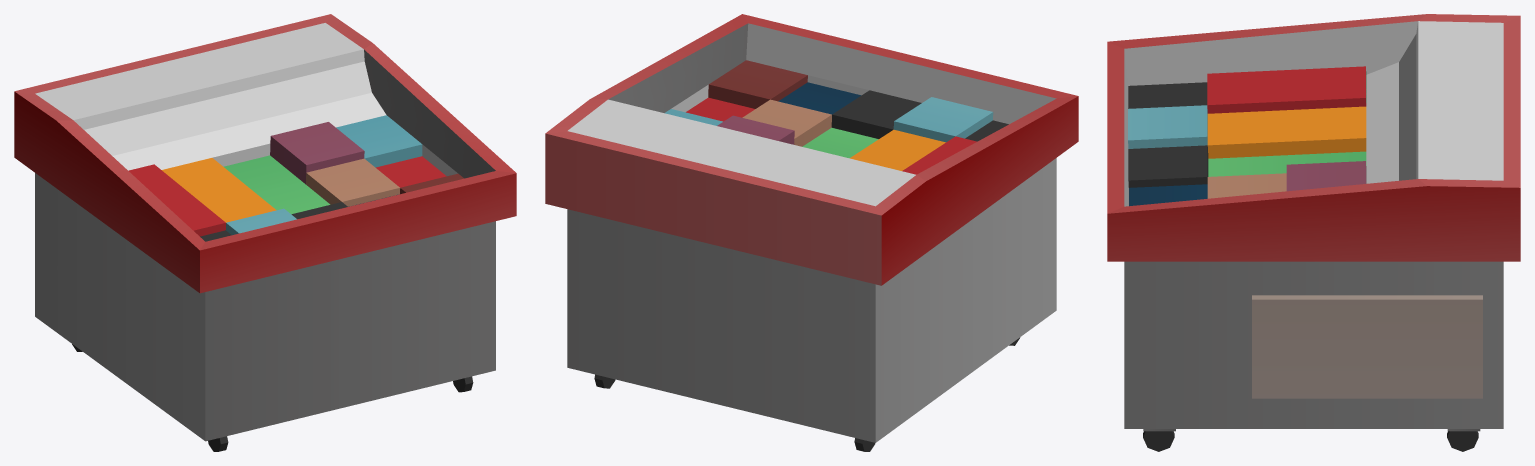
File: B02_Congel.fbx
3 views of the same model, side by side, from view 1: azimuth 30°, elevation 25°; view 2: azimuth 150°, elevation 25°; view 3: azimuth 270°, elevation 25° (orthographic). The views are drawn at different scales.
Visible parts, largest first — view 1: B02_Congel; view 2: B02_Congel; view 3: B02_Congel.
Part boxes in pixels (x1,y1,x2,y2): B02_Congel: (14, 14, 516, 451); B02_Congel: (545, 14, 1078, 451); B02_Congel: (1107, 14, 1520, 451).
Bounding box in the file's own units: 218 × 166 × 221.
